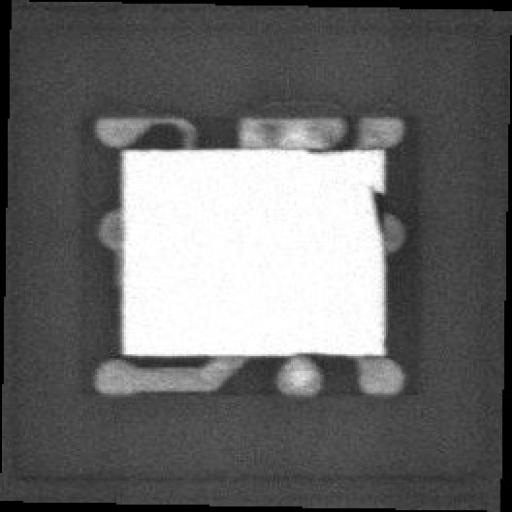DIE_BROKEN: (367, 186, 382, 246), (303, 145, 380, 156)
